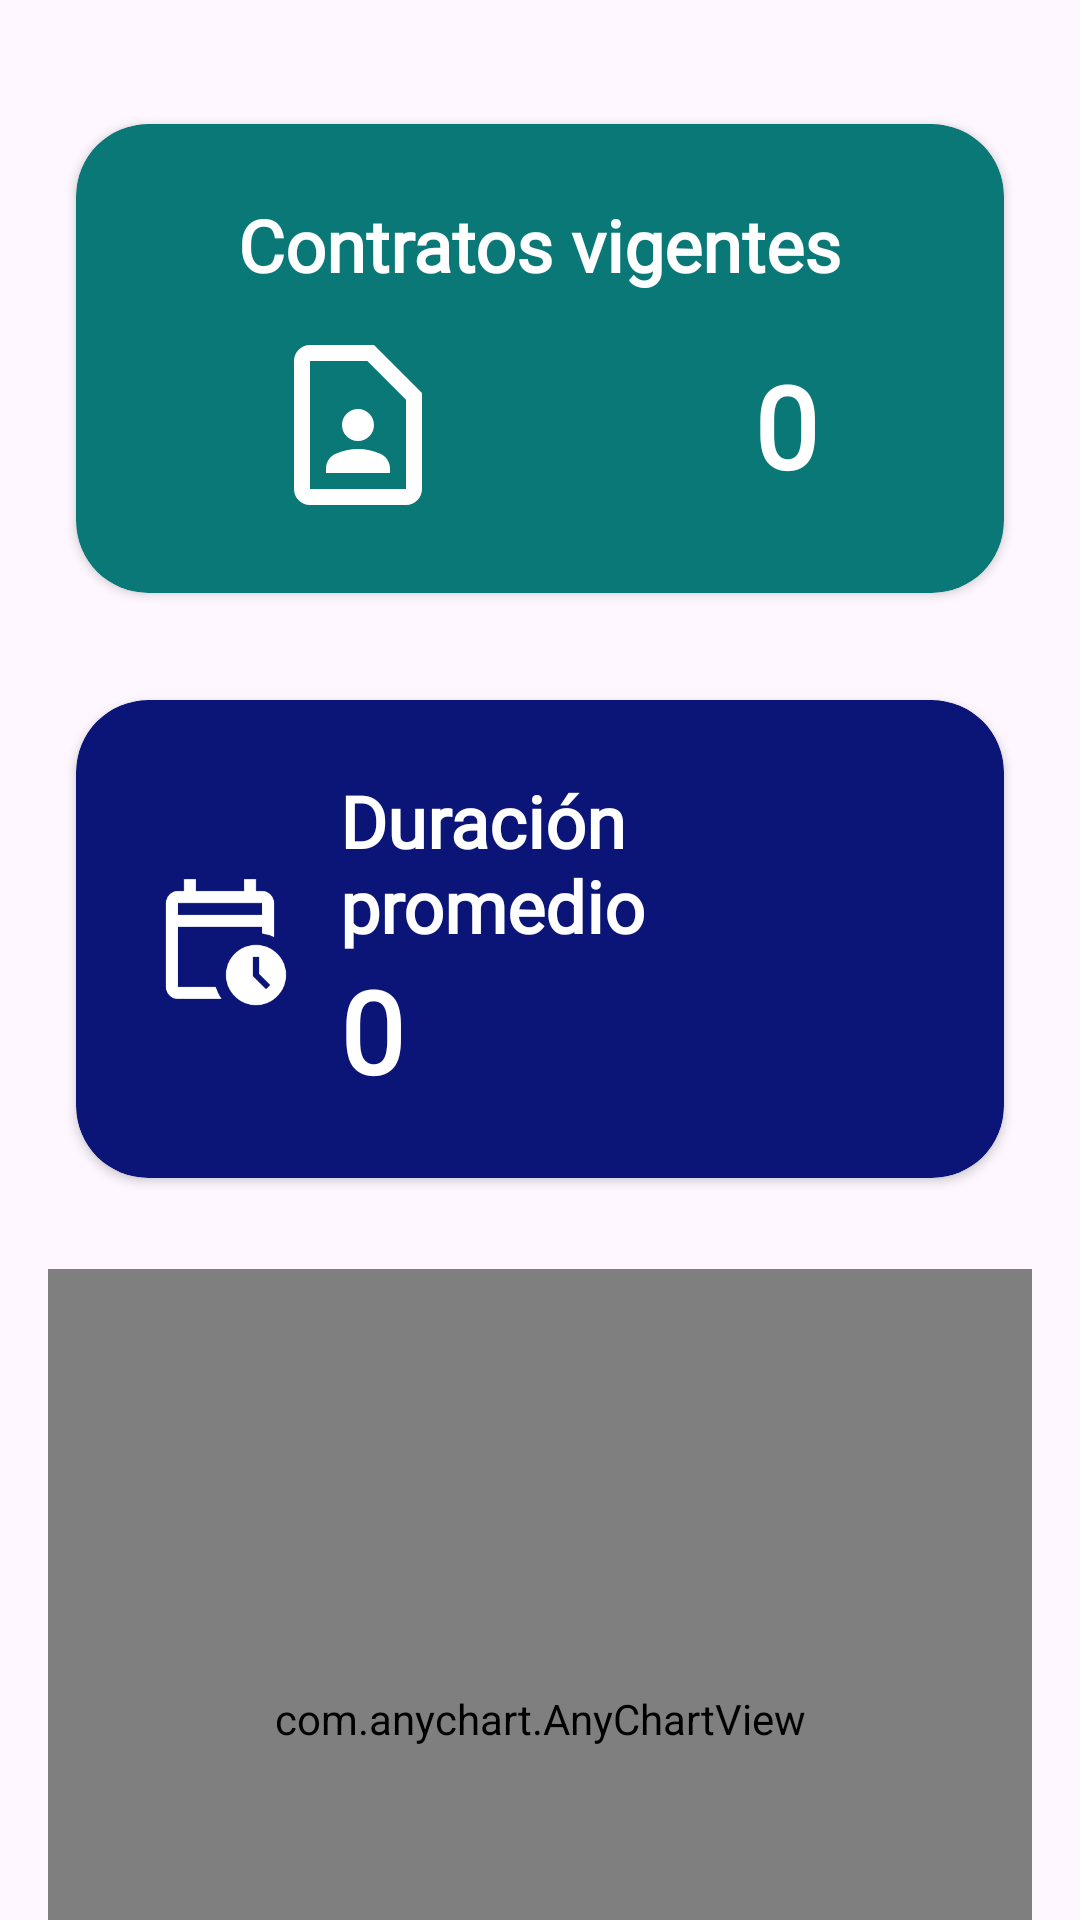

Icons on this 1080*1920 Android screen, each with its box as Rect(x1, y1, x2, y2):
calendar clock: Rect(165, 879, 287, 1006)
contact page: Rect(294, 345, 422, 505)
